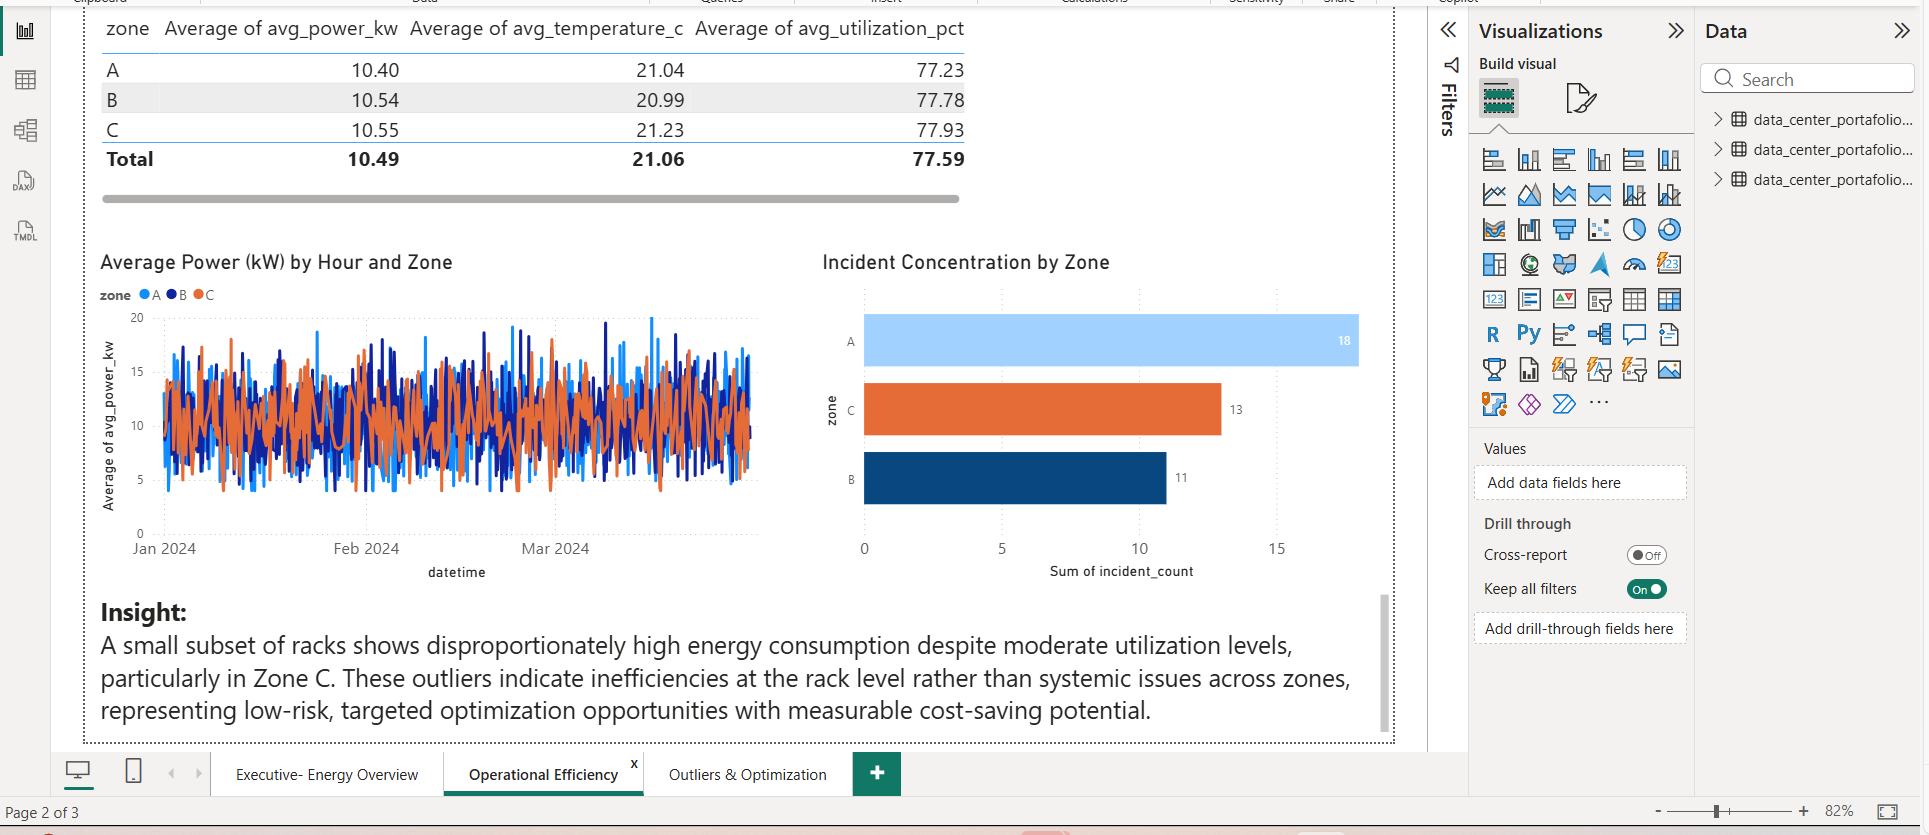

What the dashboard file says about the page in this screenshot:
{"tool":"powerbi","page":{"name":"Operational Efficiency","canvas":[1280,720],"ordinal":1},"visuals":[{"type":"tableEx","fields":{"Values":["data_center_portafolio vw_kpi_zone_hour.zone","Avg(data_center_portafolio vw_kpi_zone_hour.avg_power_kw)","Avg(data_center_portafolio vw_kpi_zone_hour.avg_temperature_c)","Avg(data_center_portafolio vw_kpi_zone_hour.avg_utilization_pct)"]},"box":[9.8,0,855.7,198.4],"z":0},{"type":"lineChart","title":"Average Power (kW) by Hour and Zone","fields":{"Category":["data_center_portafolio vw_kpi_zone_hour.datetime"],"Y":["Avg(data_center_portafolio vw_kpi_zone_hour.avg_power_kw)"],"Series":["data_center_portafolio vw_kpi_zone_hour.zone"]},"box":[9.4,238.8,679.9,327.8],"z":1000},{"type":"clusteredBarChart","title":"Incident Concentration by Zone","fields":{"Category":["data_center_portafolio vw_kpi_zone_hour.zone"],"Y":["Sum(data_center_portafolio vw_kpi_zone_hour.incident_count)"]},"box":[716.4,238.8,563.9,327.8],"z":2000},{"type":"textbox","box":[9.4,570.7,1270.8,149.7],"z":3000}]}

Visuals, with their boxes on the page's 1280x720 design canvas (x1, y1, x2, y2). These are canvas units, not pixel positions in the 1929x835 screenshot, which may show the page scaled, cropped or inside an application window:
tableEx - data_center_portafolio vw_kpi_zone_hour.zone x Avg(data_center_portafolio vw_kpi_zone_hour.avg_power_kw): [left=10, top=0, right=866, bottom=198]
"Average Power (kW) by Hour and Zone" lineChart: [left=9, top=239, right=689, bottom=567]
"Incident Concentration by Zone" clusteredBarChart: [left=716, top=239, right=1280, bottom=567]
textbox: [left=9, top=571, right=1280, bottom=720]
